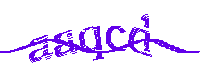a: (30, 34, 52, 62), (53, 29, 75, 57)
c: (106, 23, 127, 52)
d: (128, 14, 153, 56)
q: (79, 26, 104, 62)
